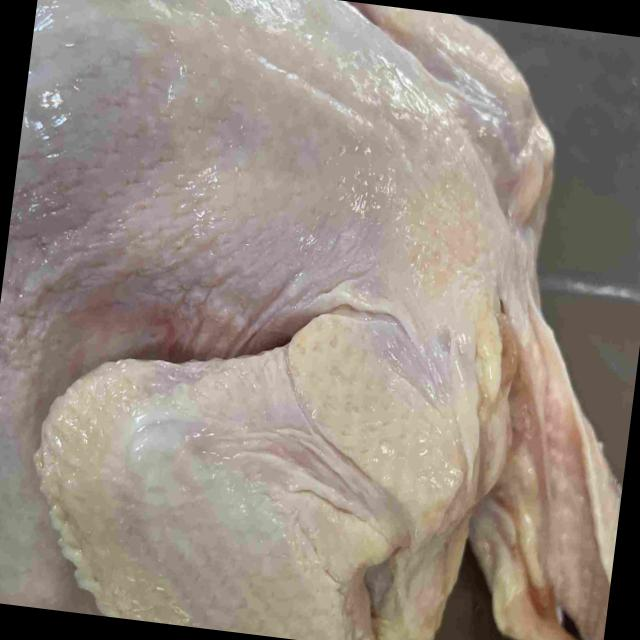back: (3, 0, 449, 302)
neck: (477, 270, 622, 640)
wing: (37, 305, 468, 640), (356, 2, 552, 254)
